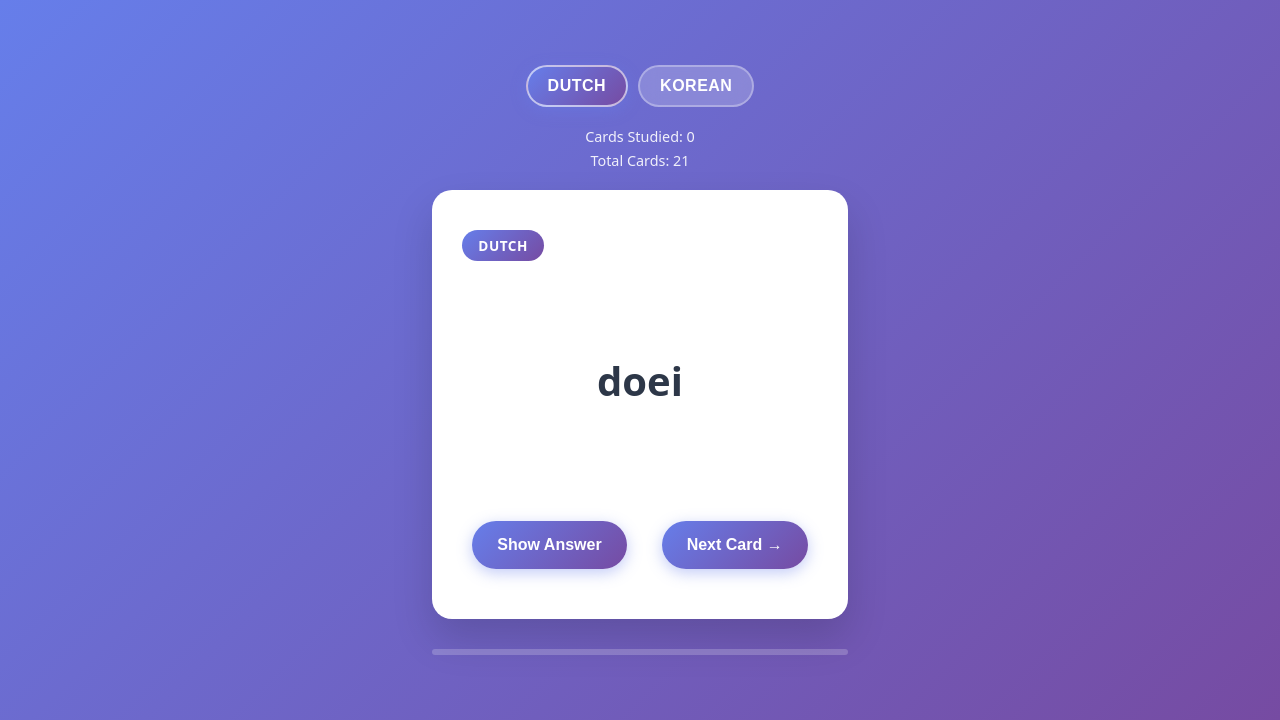
Test: Flashcard App › Answer Toggle Functionality › language tag updates when toggling answer
Expected: the text with class "language-tag" reads "Dutch", top-left (478, 236), bottom-right (528, 255)
# Click to show answer
Click the button "Show Answer": (549, 545) top-left (472, 521), bottom-right (627, 569)
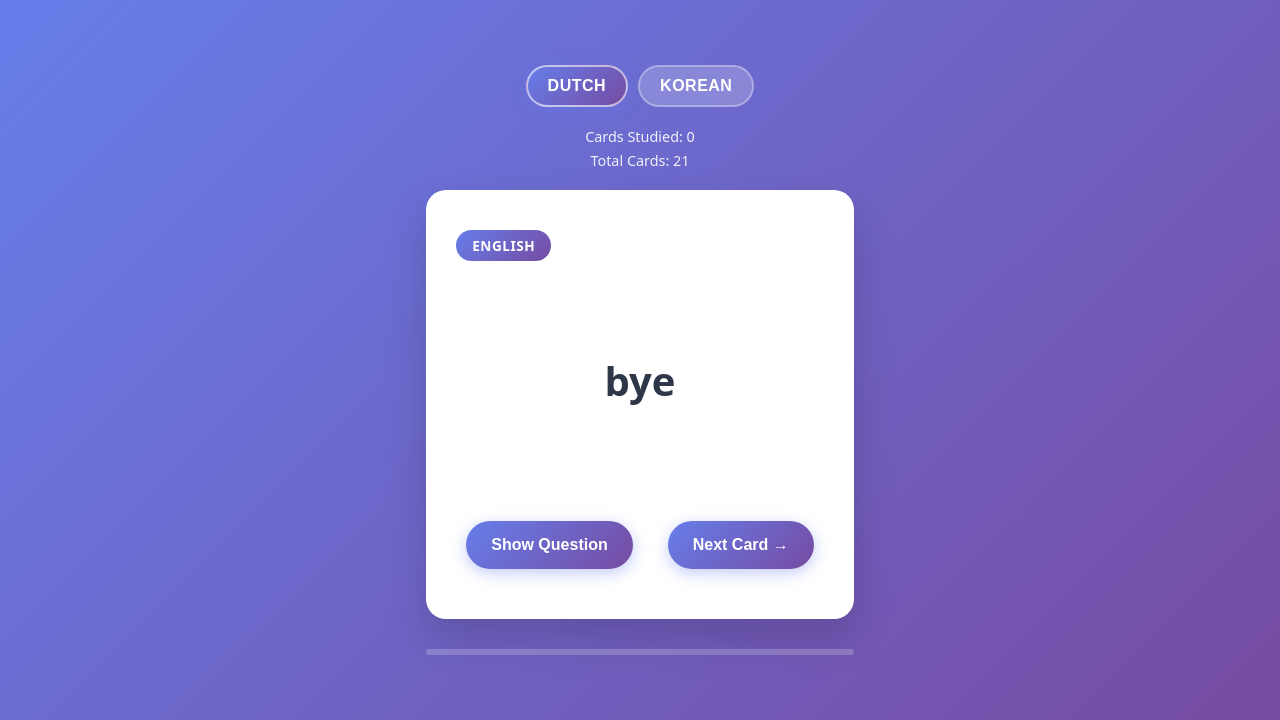
Expected: the text "English" is shown, top-left (456, 230), bottom-right (551, 261)
# Click to go back
Click the button "Show Question": (550, 545) top-left (466, 521), bottom-right (633, 569)
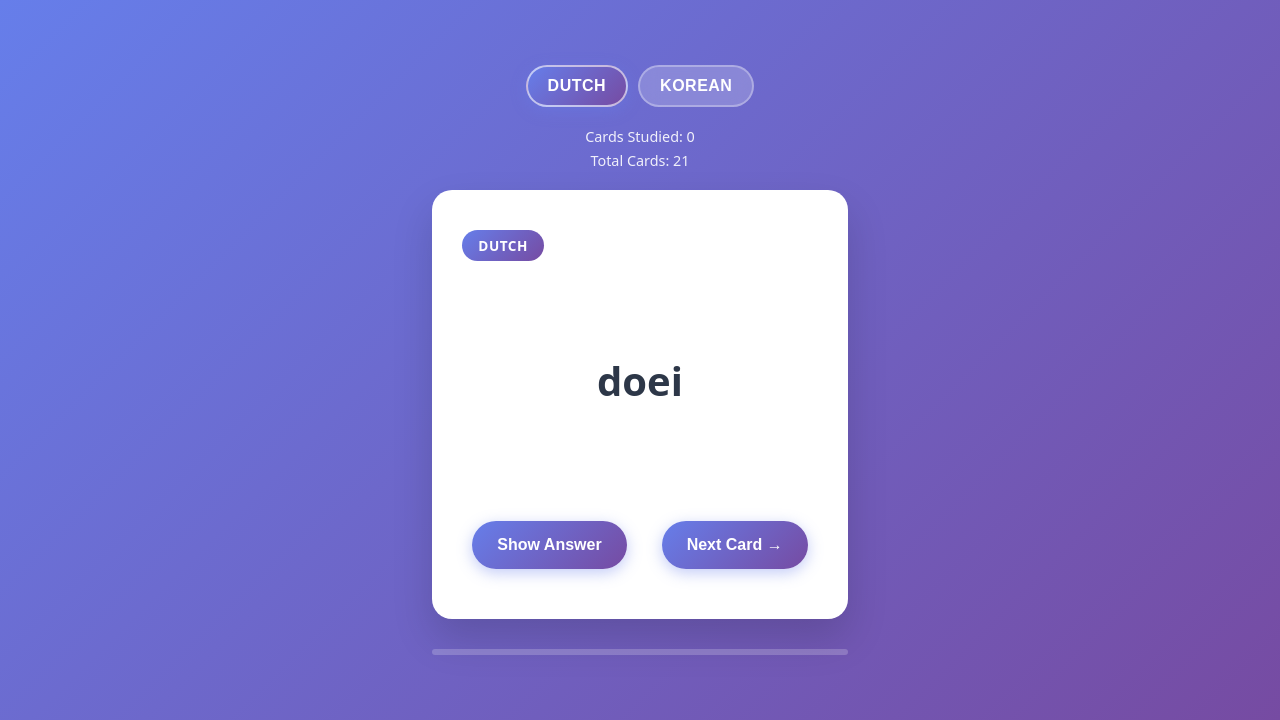
Expected: the text "English" reads "Dutch", top-left (478, 236), bottom-right (528, 255)
